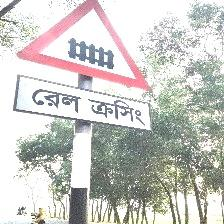Rail-crossing: (13, 0, 153, 132)
